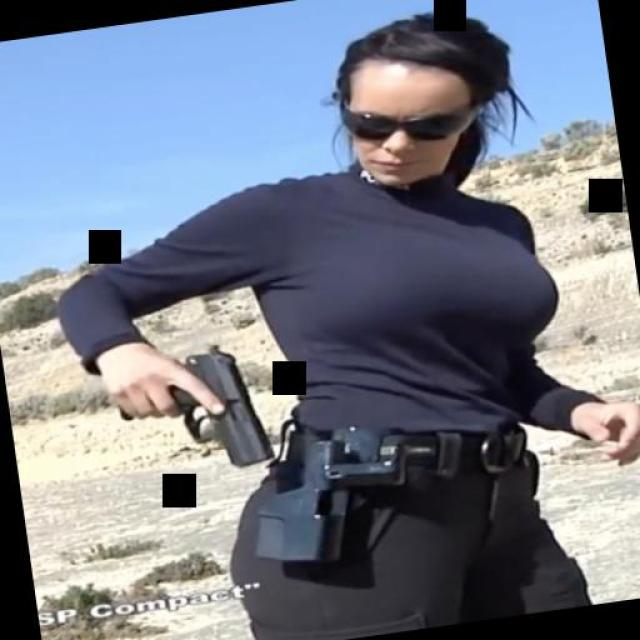gun: (106, 339, 279, 486)
